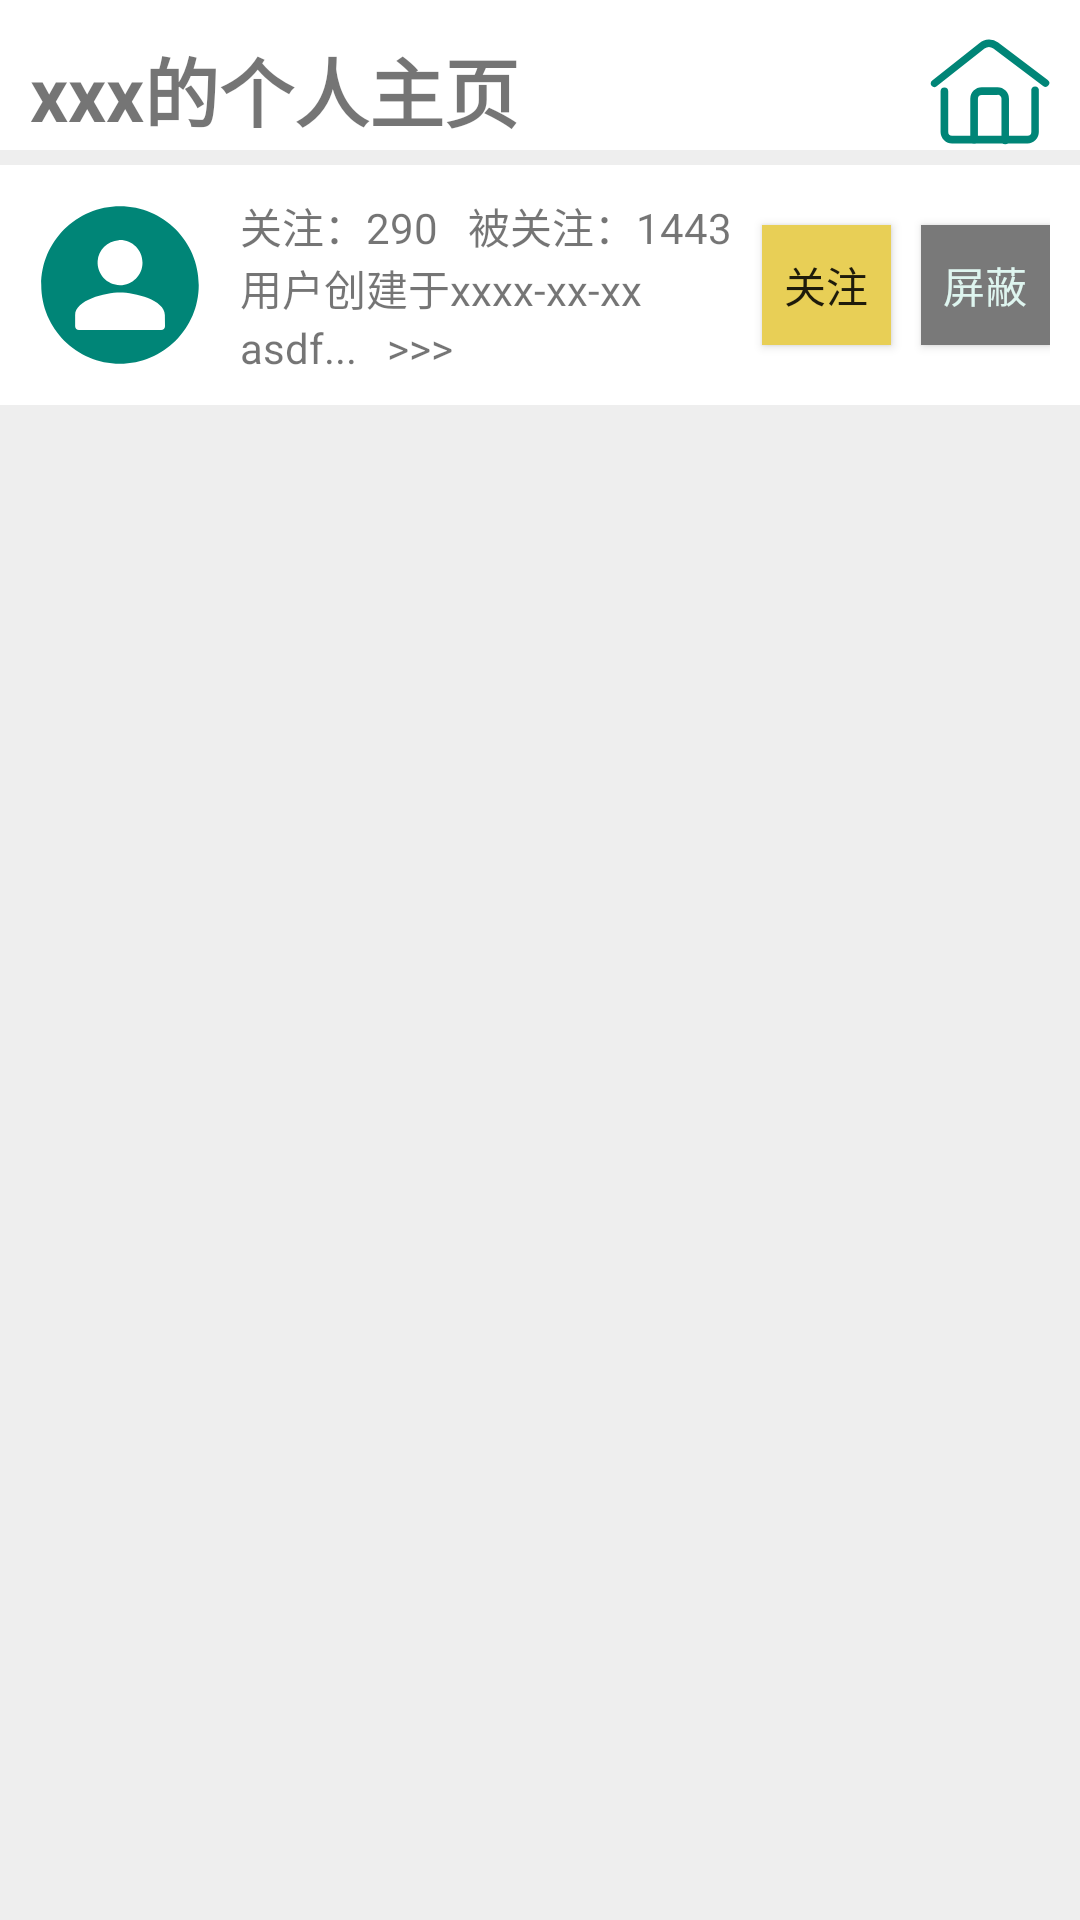

Screen size 1080px×1920px. Icon name, then its box in pixels as bbox(x1, y1, x2, y2):
homepage: bbox(930, 39, 1050, 145)
user: bbox(41, 206, 199, 364)
